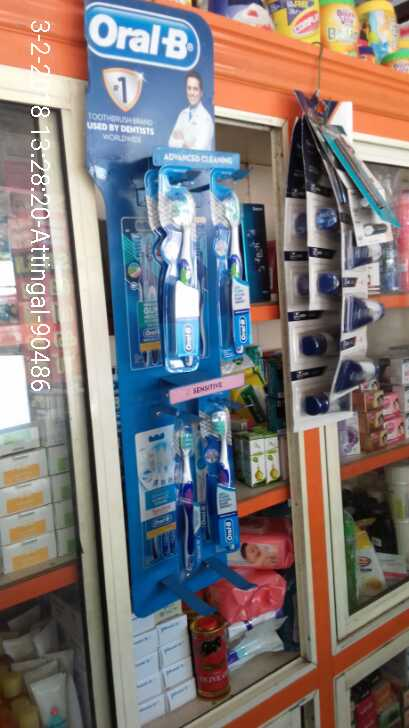oralb: (151, 162, 205, 376), (209, 168, 258, 356), (196, 396, 244, 549)
